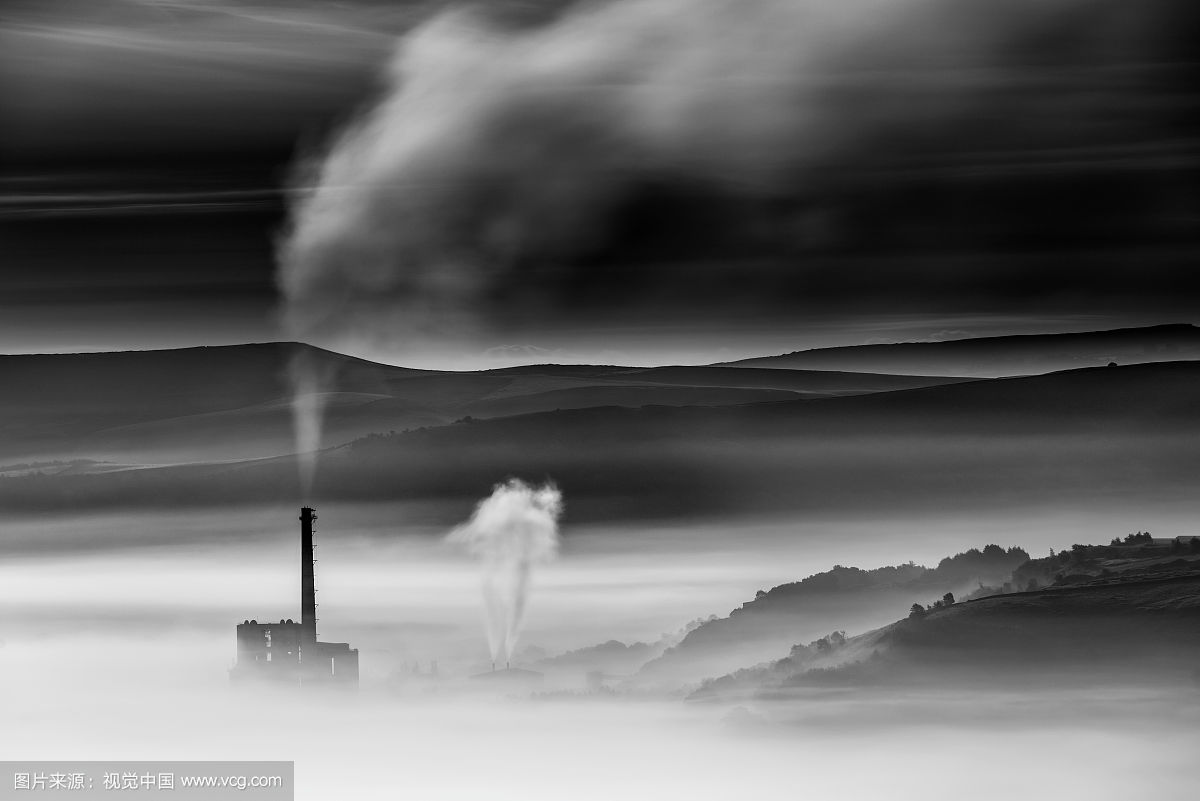dust: (263, 287, 355, 537), (443, 488, 550, 677)
